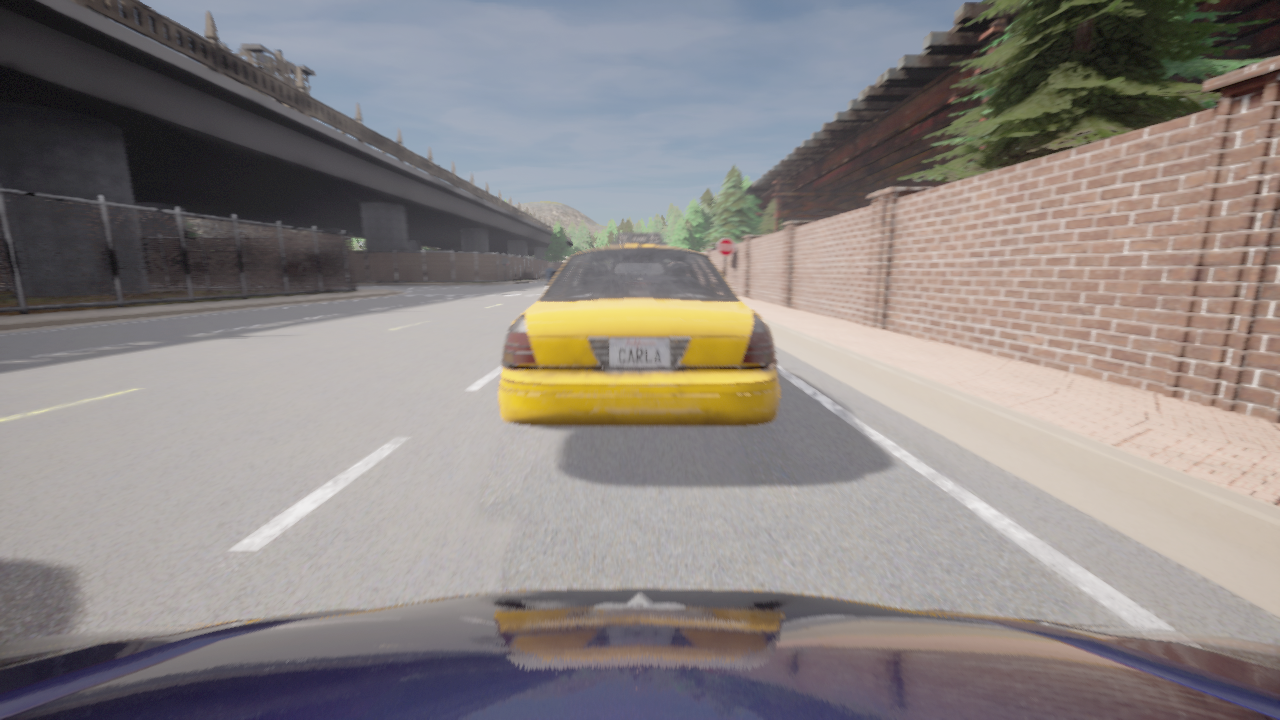cyclist: (0, 588, 1279, 719), (499, 233, 779, 426), (542, 271, 549, 290)
